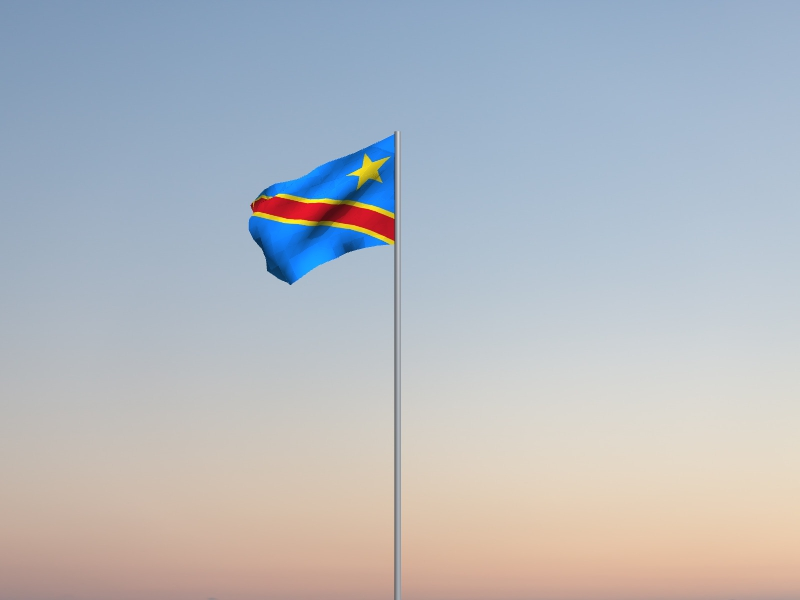cd: (248, 135, 396, 287)
